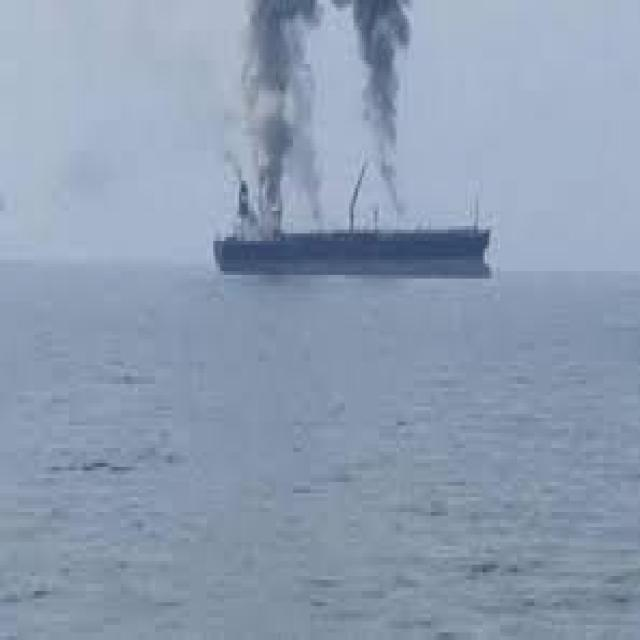cargoship: (177, 158, 508, 306)
